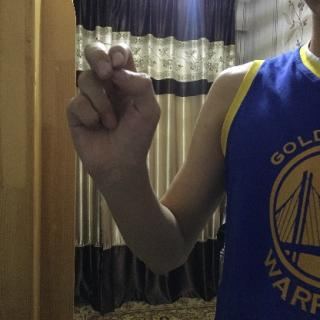QAAF: (63, 40, 165, 194)
